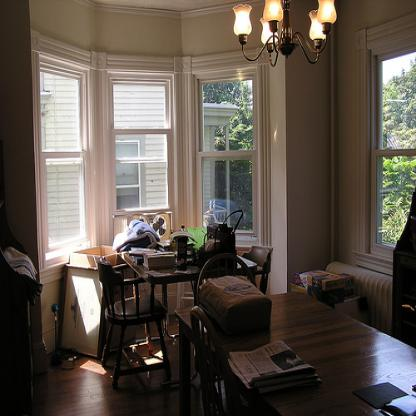chair: (97, 254, 173, 388), (189, 304, 241, 415), (194, 251, 257, 305), (240, 245, 272, 294)
diningtable: (173, 289, 415, 415), (115, 250, 258, 388)
